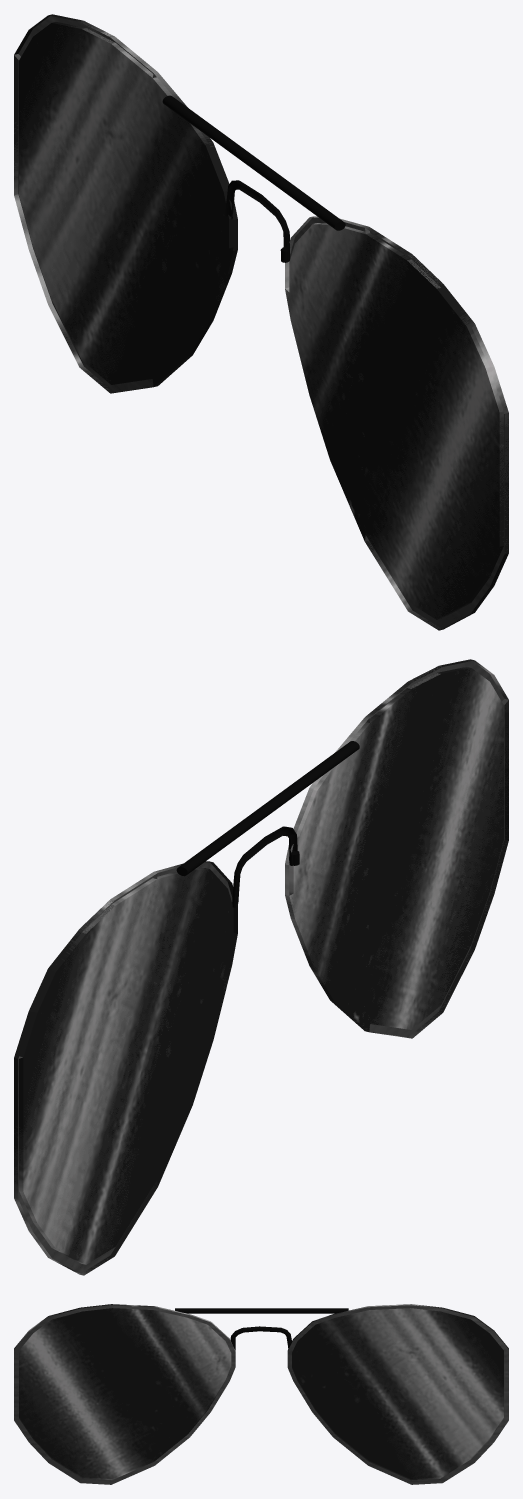
The model's file is Aviators.glb.
3 views of the same model, one above another, from view 1: azimuth 30°, elevation 25°; view 2: azimuth 150°, elevation 25°; view 3: azimuth 270°, elevation 25° (orthographic). The views are drawn at different scales.
Parts seen in each view (by area): view 1: Aviators; view 2: Aviators; view 3: Aviators.
Part boxes in pixels (x1,y1,x2,y2): Aviators: [14, 14, 508, 630]; Aviators: [14, 659, 508, 1275]; Aviators: [14, 1304, 508, 1484].
Size of the model in its own units: 0.0221 by 0.5088 by 1.27.
Materials: 4 (2 with a texture image).
